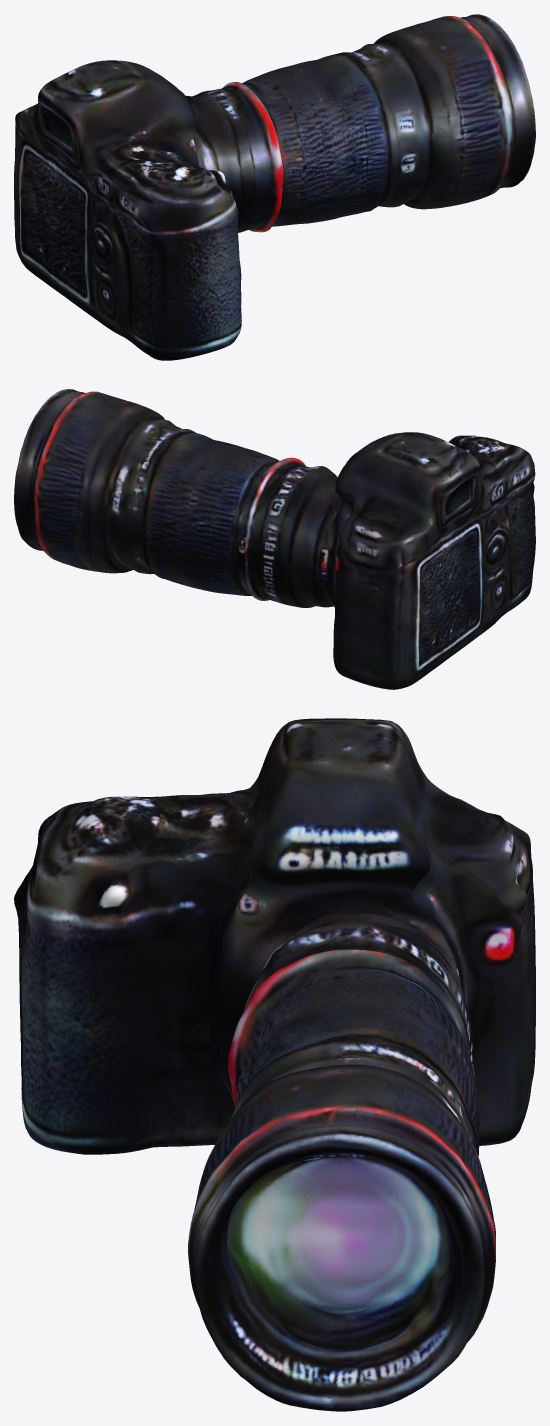
File: camera.glb
3 views of the same model, one above another, from view 1: azimuth 30°, elevation 25°; view 2: azimuth 150°, elevation 25°; view 3: azimuth 270°, elevation 25° (orthographic). The views are drawn at different scales.
Parts seen in each view (by area): view 1: high_poly; view 2: high_poly; view 3: high_poly.
Boxes of the visible parts, x1,y1,x2,y2 form: high_poly: (14,14,535,360); high_poly: (14,389,535,689); high_poly: (14,718,535,1411).
Bounding box in the file's own units: 1 × 0.4862 × 0.5956.
1 material, 1 textured.
